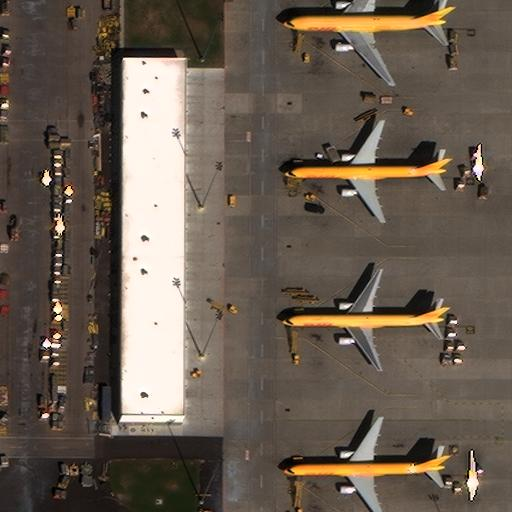Large Civil Transport: (284, 120, 446, 222), (281, 269, 444, 370), (283, 417, 445, 512), (281, 0, 446, 86)
